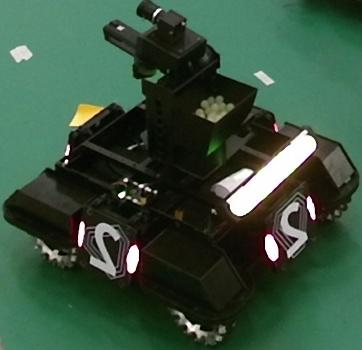armor_2: (78, 220, 140, 273), (266, 197, 316, 261)
light: (227, 128, 316, 217)
